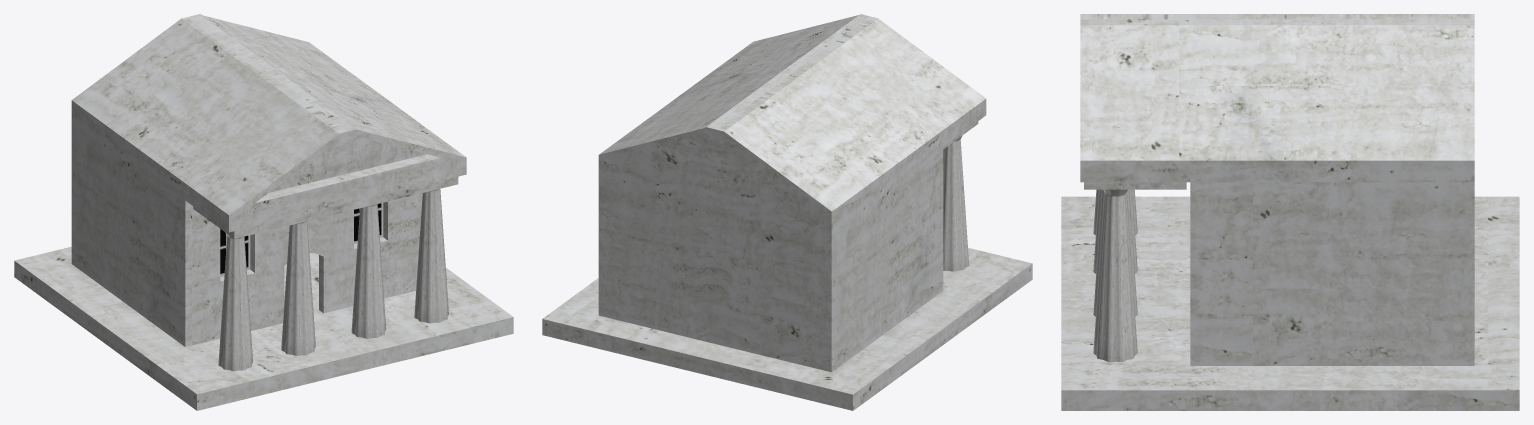
The model's file is museum.fbx.
3 views of the same model, side by side, from view 1: azimuth 30°, elevation 25°; view 2: azimuth 150°, elevation 25°; view 3: azimuth 270°, elevation 25° (orthographic). The views are drawn at different scales.
Visible parts, largest first — view 1: aa:pCube6, aa:pCube4, aa:pCylinder7, aa:pCylinder6, aa:pCylinder2, aa:pCylinder5; view 2: aa:pCube6, aa:pCube4, aa:pCylinder7; view 3: aa:pCube6, aa:pCube4, aa:pCylinder2, aa:pCylinder5, aa:pCylinder6.
Part boxes in pixels (bbox=[...]): aa:pCube6: bbox=[71, 14, 466, 346]; aa:pCube4: bbox=[14, 246, 513, 410]; aa:pCylinder7: bbox=[218, 232, 252, 371]; aa:pCylinder6: bbox=[281, 221, 315, 355]; aa:pCylinder2: bbox=[414, 189, 448, 323]; aa:pCylinder5: bbox=[351, 204, 386, 338]; aa:pCube6: bbox=[598, 14, 986, 372]; aa:pCube4: bbox=[542, 247, 1032, 410]; aa:pCylinder7: bbox=[943, 135, 969, 271]; aa:pCube6: bbox=[1080, 14, 1474, 365]; aa:pCube4: bbox=[1061, 196, 1519, 410]; aa:pCylinder2: bbox=[1093, 189, 1137, 362]; aa:pCylinder5: bbox=[1093, 189, 1137, 316]; aa:pCylinder6: bbox=[1093, 189, 1137, 273].
Bounding box in the file's own units: 20 × 14.2 × 20.
